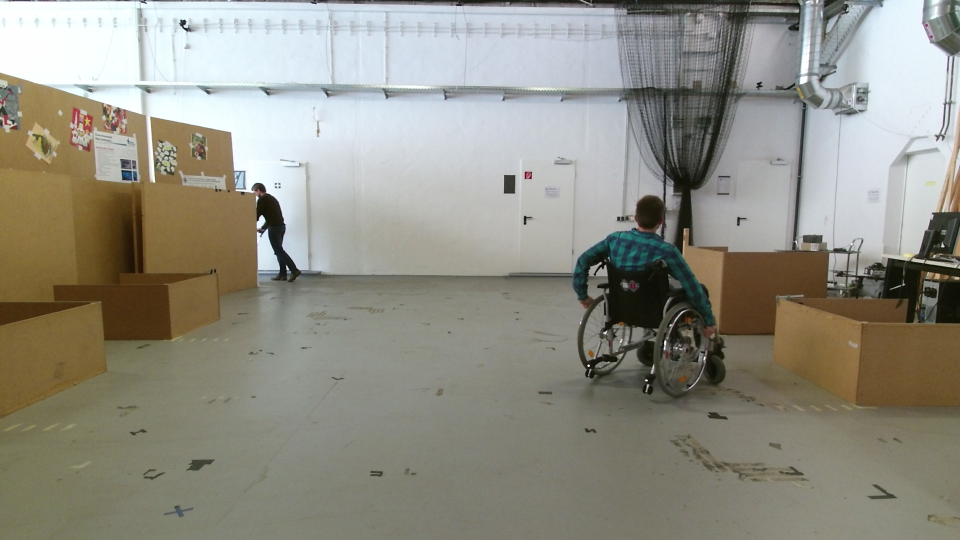wheelchair: (565, 189, 754, 410)
